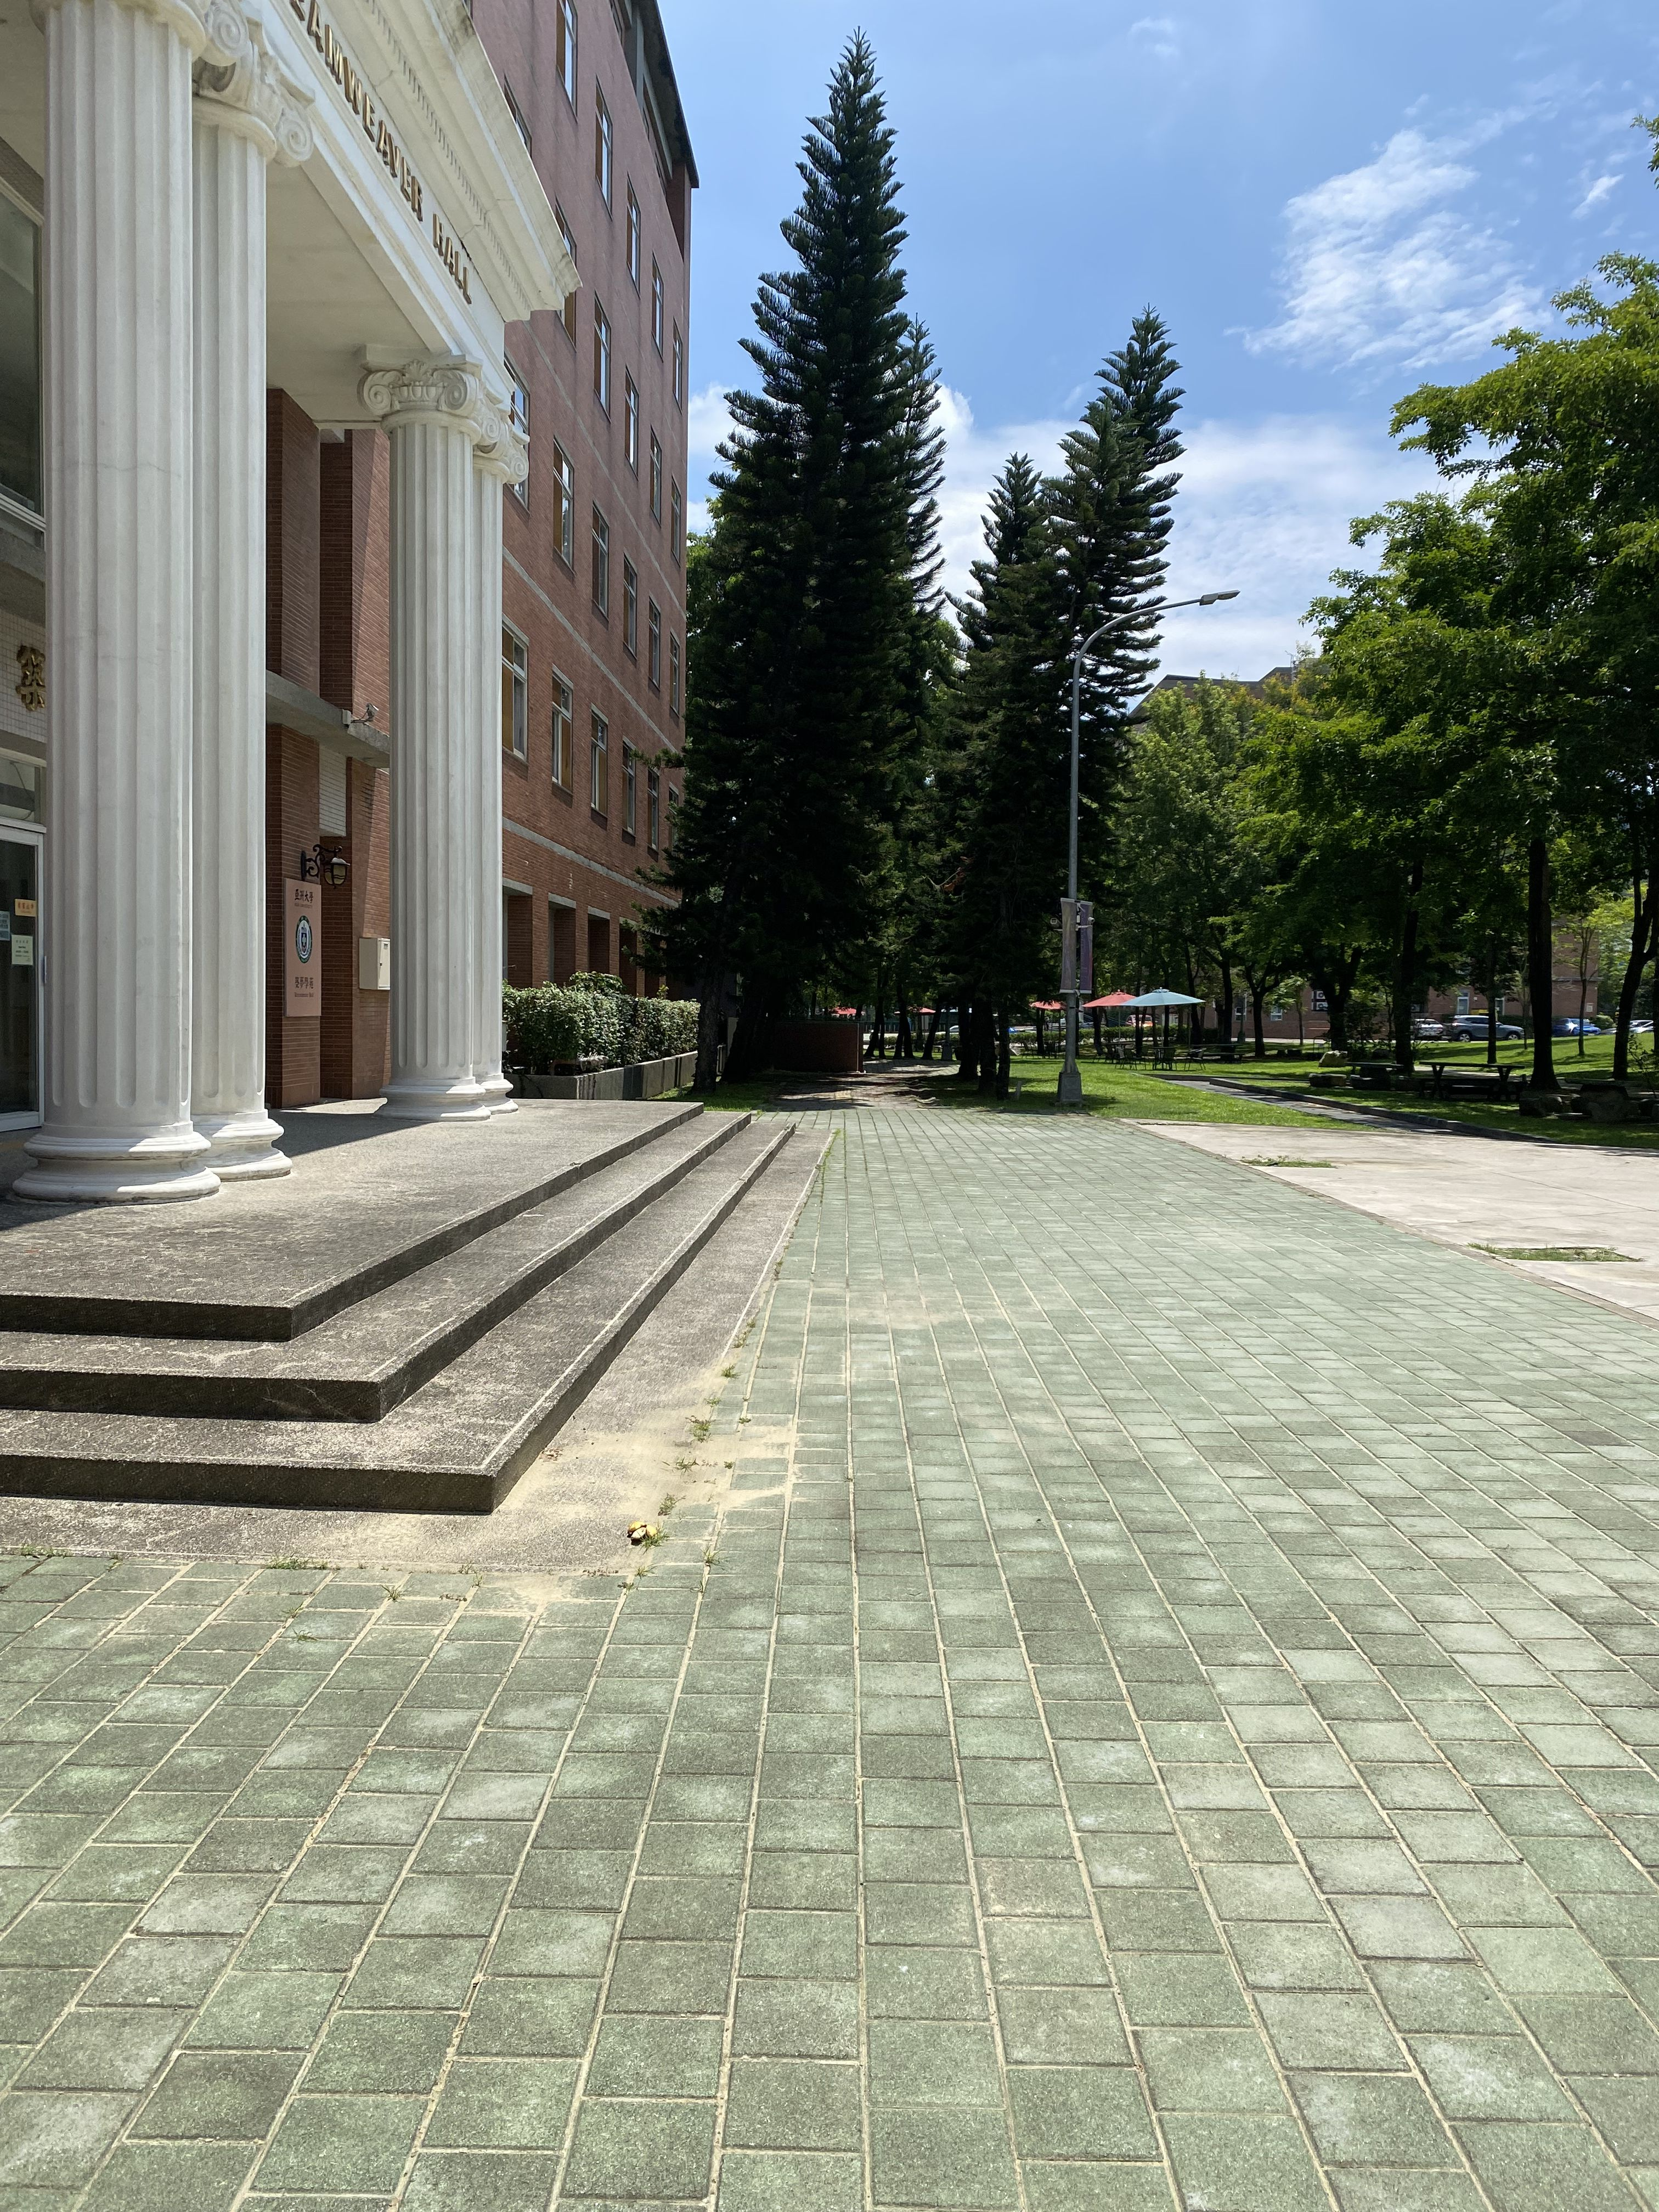0: (5, 1467, 805, 2212)
sidewalk: (721, 1069, 1659, 2212)
